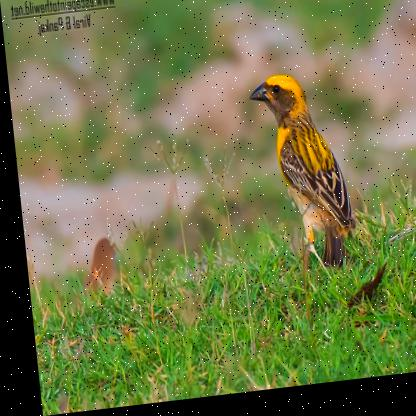Burung: (246, 76, 354, 282)
